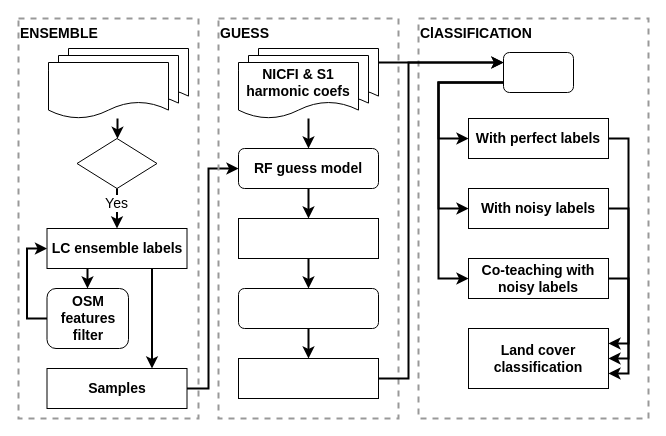
Some shapes in this 666 by 436 pixel diagram are drawn without their labels. Each missing label, with the box of its shape:
Agree?: (76, 138, 157, 188)
Guessed LC labels: (238, 218, 378, 258)
Human check: (238, 288, 378, 328)
LC products: (48, 62, 168, 118)
Scored LC labels: (238, 358, 378, 398)
U-Net: (502, 52, 574, 92)
